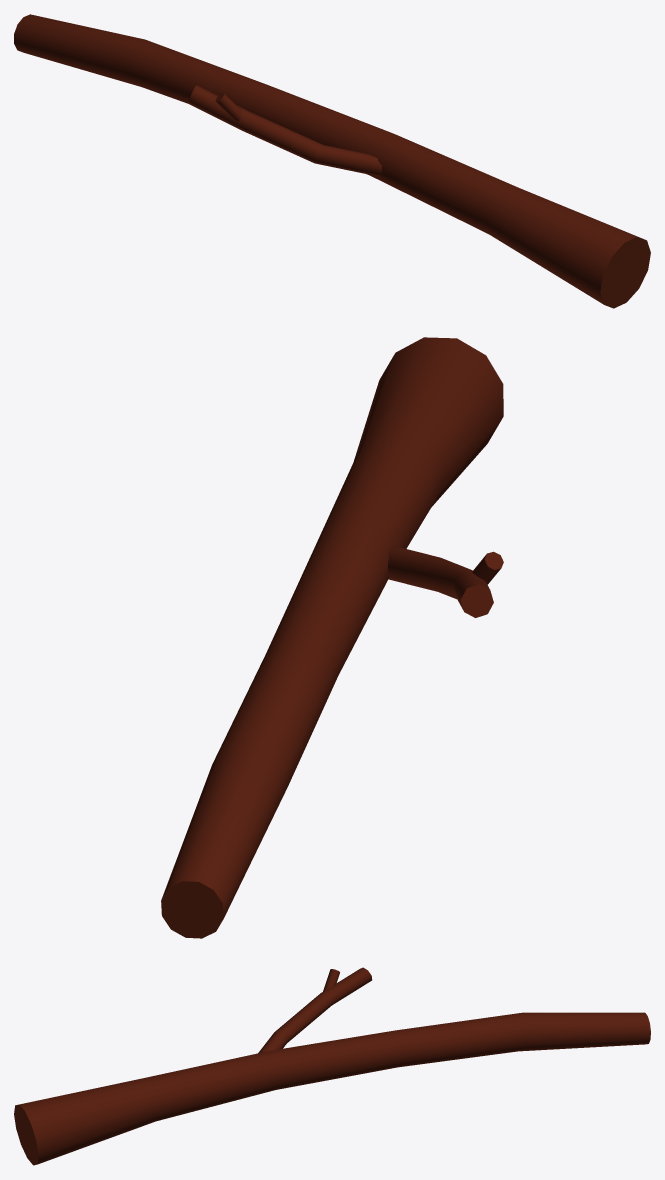
File: branch_03.fbx
3 renders of one model, top to bottom at view 1: azimuth 30°, elevation 25°; view 2: azimuth 150°, elevation 25°; view 3: azimuth 270°, elevation 25°, orthographic. The views are drawn at different scales.
Parts seen in each view (by area): view 1: branch_03; view 2: branch_03; view 3: branch_03.
Part boxes in pixels (x1,y1,x2,y2): branch_03: [14, 14, 650, 308]; branch_03: [161, 337, 503, 938]; branch_03: [14, 967, 650, 1165].
Bounding box in the file's own units: 78.18 × 35.7 × 192.
